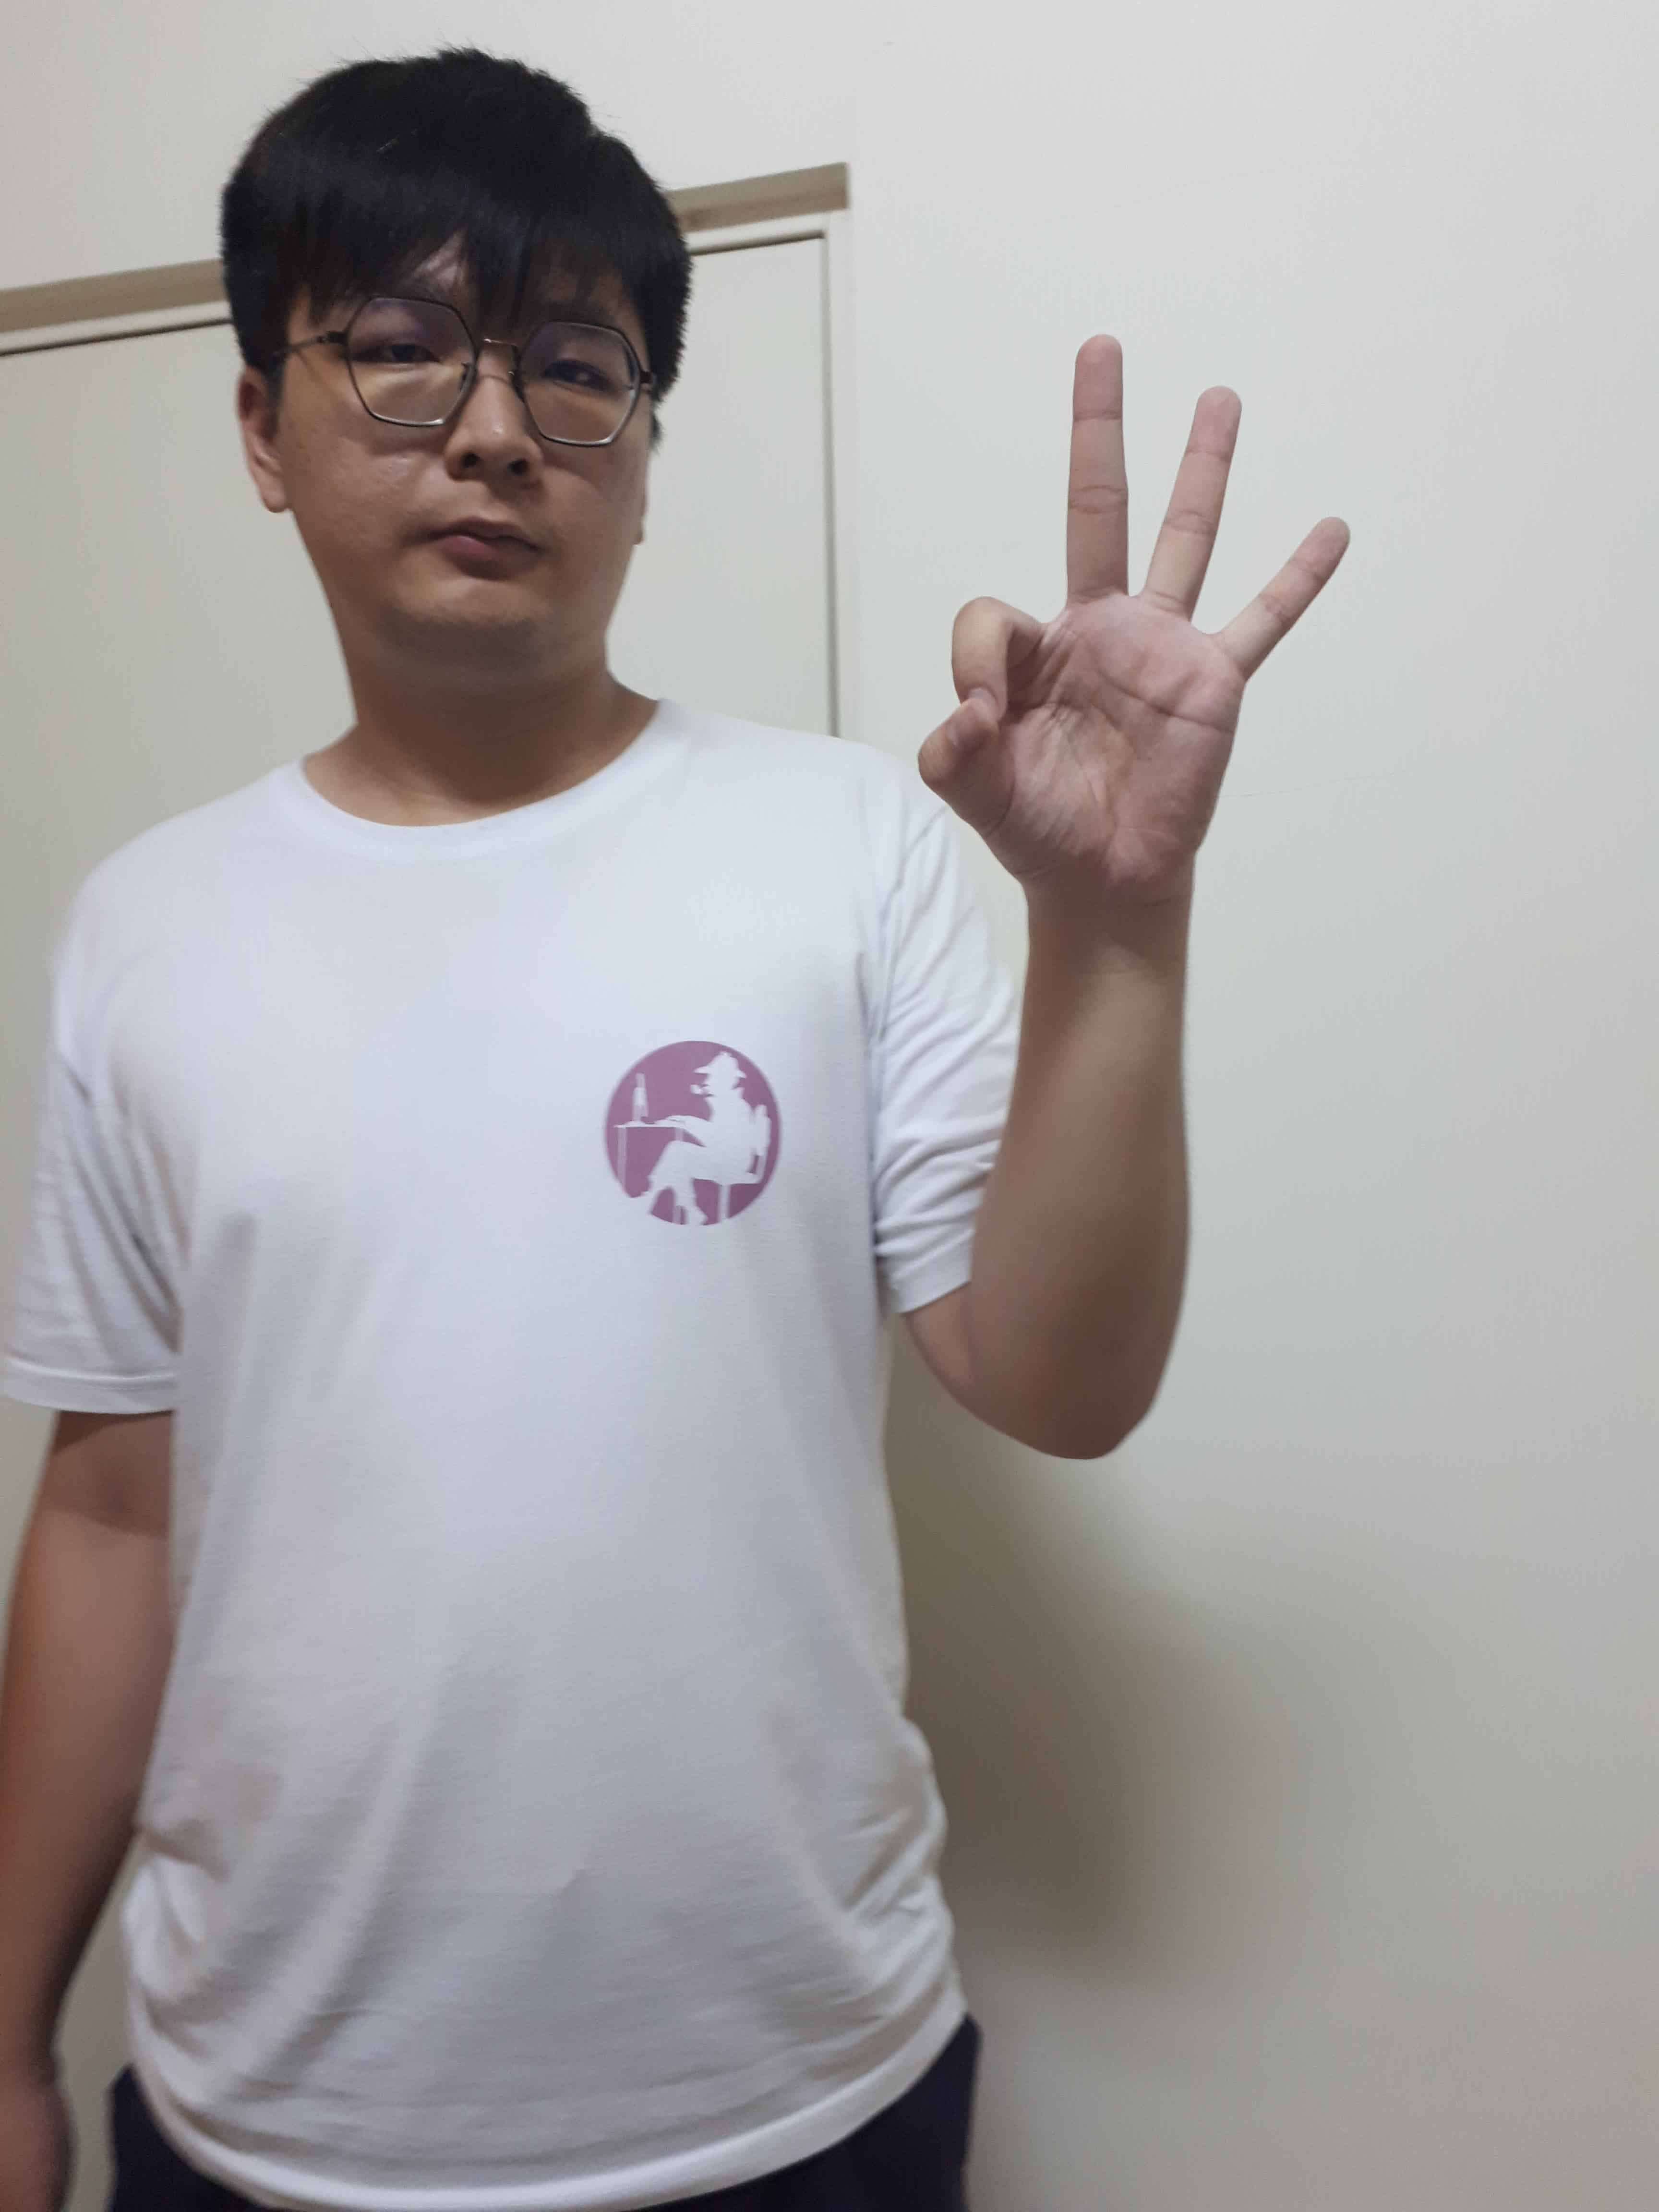ok: (903, 315, 1359, 925)
